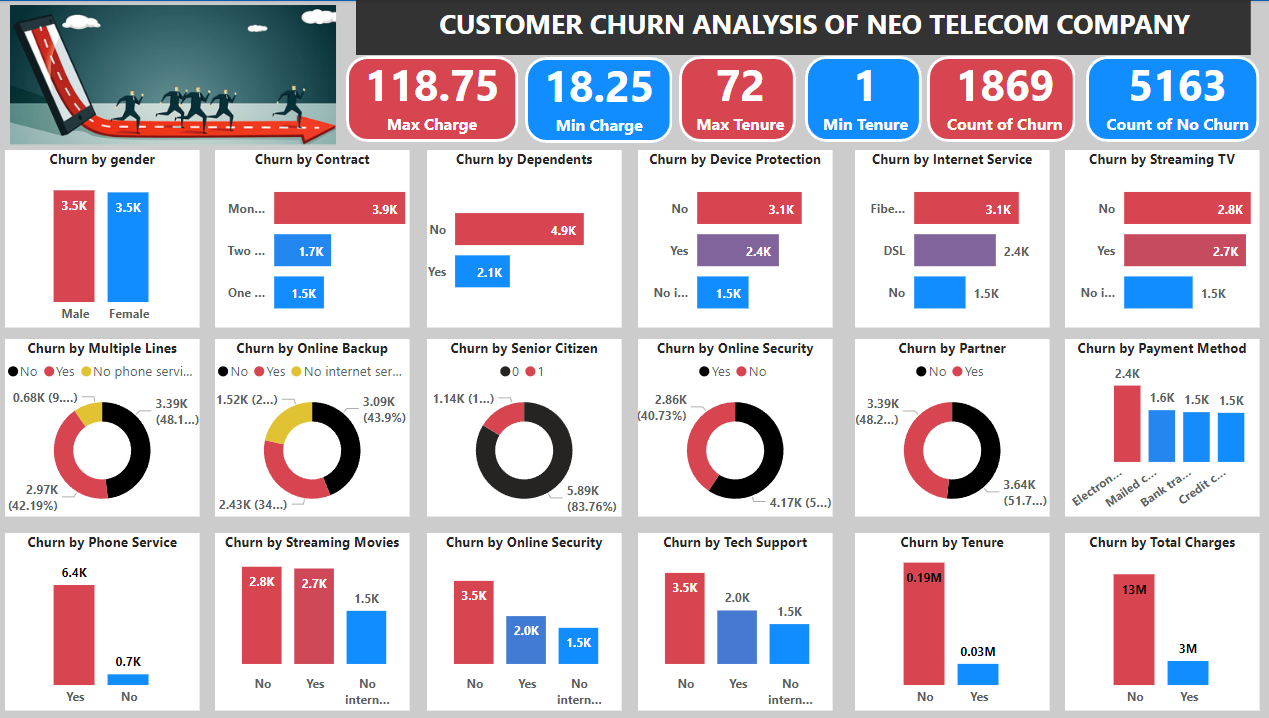

This screenshot's page, from the dashboard's own definition file:
{"tool":"powerbi","page":{"name":"Page 1","canvas":[1280,720],"ordinal":0},"visuals":[{"type":"shape","box":[0,0,1280,719.8],"z":0},{"type":"shape","box":[353.9,55.8,171.8,85.7],"z":1000},{"type":"columnChart","title":"Churn by gender","fields":{"Category":["customer_churn.gender"],"Y":["CountNonNull(customer_churn.Churn)"]},"box":[14,149.5,193.8,176.6],"z":2000},{"type":"card","fields":{"Values":["Measure Table.Max Charge"]},"box":[364.1,46.9,151.3,94.7],"z":3000},{"type":"barChart","title":"Churn by Contract","fields":{"Category":["customer_churn.Contract"],"Y":["CountNonNull(customer_churn.Churn)"]},"box":[223.3,149.5,193.8,176.6],"z":4000},{"type":"shape","box":[532.8,56.8,147.2,85.7],"z":5000},{"type":"clusteredBarChart","title":"Churn by Dependents","fields":{"Category":["customer_churn.Dependents"],"Y":["CountNonNull(customer_churn.Churn)"]},"box":[434.8,149.5,193.8,176.6],"z":6000},{"type":"card","fields":{"Values":["Measure Table.Min Charge"]},"box":[543.1,47.9,125.8,94.7],"z":7000},{"type":"barChart","title":"Churn by Device Protection","fields":{"Category":["customer_churn.DeviceProtection"],"Y":["CountNonNull(customer_churn.Churn)"]},"box":[645.2,149.5,193.8,176.6],"z":8000},{"type":"shape","box":[686.2,55.8,116.6,85.7],"z":9000},{"type":"shape","box":[363.9,0,892.2,54.8],"z":10000},{"type":"card","fields":{"Values":["Measure Table.Max Tenure"]},"box":[693.4,46.9,106.3,94.7],"z":11000},{"type":"barChart","title":"Churn by Internet Service","fields":{"Y":["CountNonNull(customer_churn.Churn)"],"Category":["customer_churn.InternetService"]},"box":[860.8,149.5,193.8,176.6],"z":12000},{"type":"shape","box":[811,55.9,116.6,85.7],"z":13000},{"type":"textbox","box":[385.8,0,870.3,54.8],"z":14000},{"type":"card","fields":{"Values":["Measure Table.Min Tenure"]},"box":[818.1,46.9,106.3,94.7],"z":15000},{"type":"donutChart","title":"Churn by Multiple Lines","fields":{"Category":["customer_churn.MultipleLines"],"Y":["CountNonNull(customer_churn.Churn)"]},"box":[14,338.1,193.8,176.6],"z":16000},{"type":"shape","box":[932.6,55.8,148.3,85.7],"z":17000},{"type":"donutChart","title":"Churn by Online Backup","fields":{"Category":["customer_churn.OnlineBackup"],"Y":["CountNonNull(customer_churn.Churn)"]},"box":[223.3,338.1,193.8,176.6],"z":18000},{"type":"card","fields":{"Values":["Measure Table.Count of Churn"]},"box":[939.8,46.9,141.1,94.7],"z":19000},{"type":"clusteredColumnChart","title":"Churn by Online Security","fields":{"Category":["customer_churn.OnlineSecurity"],"Y":["CountNonNull(customer_churn.Churn)"]},"box":[434.8,531,193.8,176.6],"z":20000},{"type":"shape","box":[1091.1,55.8,172.8,85.7],"z":21000},{"type":"donutChart","title":"Churn by Online Security","fields":{"Category":["customer_churn.PaperlessBilling"],"Y":["CountNonNull(customer_churn.Churn)"]},"box":[645.2,338.1,193.8,176.6],"z":22000},{"type":"card","fields":{"Values":["Measure Table.Count of No Churn"]},"box":[1101.3,46.9,162.6,94.7],"z":23000},{"type":"donutChart","title":"Churn by Partner","fields":{"Category":["customer_churn.Partner"],"Y":["CountNonNull(customer_churn.Churn)"]},"box":[860.8,338.1,193.8,176.6],"z":24000},{"type":"columnChart","title":"Churn by Payment Method","fields":{"Y":["CountNonNull(customer_churn.Churn)"],"Category":["customer_churn.PaymentMethod"]},"box":[1070.2,338.1,193.8,176.6],"z":25000},{"type":"columnChart","title":"Churn by Phone Service","fields":{"Y":["CountNonNull(customer_churn.Churn)"],"Category":["customer_churn.PhoneService"]},"box":[14,531,193.8,176.6],"z":26000},{"type":"donutChart","title":"Churn by Senior Citizen","fields":{"Category":["customer_churn.SeniorCitizen"],"Y":["CountNonNull(customer_churn.Churn)"]},"box":[434.8,338.1,193.8,176.6],"z":27000},{"type":"columnChart","title":"Churn by Streaming Movies","fields":{"Y":["CountNonNull(customer_churn.Churn)"],"Category":["customer_churn.StreamingMovies"]},"box":[223.3,531,193.8,176.6],"z":28000},{"type":"barChart","title":"Churn by Streaming TV","fields":{"Category":["customer_churn.StreamingTV"],"Y":["CountNonNull(customer_churn.Churn)"]},"box":[1070.2,149.5,193.8,176.6],"z":29000},{"type":"columnChart","title":"Churn by Tech Support","fields":{"Y":["CountNonNull(customer_churn.Churn)"],"Category":["customer_churn.TechSupport"]},"box":[645.2,531,193.8,176.6],"z":30000},{"type":"columnChart","title":"Churn by Tenure","fields":{"Category":["customer_churn.Churn"],"Y":["Sum(customer_churn.tenure)"]},"box":[860.8,531,193.8,176.6],"z":31000},{"type":"columnChart","title":"Churn by Total Charges","fields":{"Category":["customer_churn.Churn"],"Y":["Sum(customer_churn.TotalCharges)"]},"box":[1070.2,531,193.8,176.6],"z":32000},{"type":"image","box":[14,0,335,149.5],"z":33000}]}

Visuals, with their boxes in screenshot pixels (x1, y1, x2, y2), scaled from the page's 1280x720 canvas onto the 1269x718 screenshot:
shape: x1=0 y1=0 x2=1268 y2=717
shape: x1=351 y1=56 x2=521 y2=141
"Churn by gender" columnChart: x1=14 y1=149 x2=206 y2=325
card - Measure Table.Max Charge: x1=361 y1=47 x2=511 y2=141
"Churn by Contract" barChart: x1=221 y1=149 x2=414 y2=325
shape: x1=528 y1=57 x2=674 y2=142
"Churn by Dependents" clusteredBarChart: x1=431 y1=149 x2=623 y2=325
card - Measure Table.Min Charge: x1=538 y1=48 x2=663 y2=142
"Churn by Device Protection" barChart: x1=640 y1=149 x2=832 y2=325
shape: x1=680 y1=56 x2=796 y2=141
shape: x1=361 y1=0 x2=1245 y2=55
card - Measure Table.Max Tenure: x1=687 y1=47 x2=793 y2=141
"Churn by Internet Service" barChart: x1=853 y1=149 x2=1046 y2=325
shape: x1=804 y1=56 x2=920 y2=141
textbox: x1=382 y1=0 x2=1245 y2=55
card - Measure Table.Min Tenure: x1=811 y1=47 x2=916 y2=141
"Churn by Multiple Lines" donutChart: x1=14 y1=337 x2=206 y2=513
shape: x1=925 y1=56 x2=1072 y2=141
"Churn by Online Backup" donutChart: x1=221 y1=337 x2=414 y2=513
card - Measure Table.Count of Churn: x1=932 y1=47 x2=1072 y2=141
"Churn by Online Security" clusteredColumnChart: x1=431 y1=530 x2=623 y2=706
shape: x1=1082 y1=56 x2=1253 y2=141
"Churn by Online Security" donutChart: x1=640 y1=337 x2=832 y2=513
card - Measure Table.Count of No Churn: x1=1092 y1=47 x2=1253 y2=141
"Churn by Partner" donutChart: x1=853 y1=337 x2=1046 y2=513
"Churn by Payment Method" columnChart: x1=1061 y1=337 x2=1253 y2=513
"Churn by Phone Service" columnChart: x1=14 y1=530 x2=206 y2=706
"Churn by Senior Citizen" donutChart: x1=431 y1=337 x2=623 y2=513
"Churn by Streaming Movies" columnChart: x1=221 y1=530 x2=414 y2=706
"Churn by Streaming TV" barChart: x1=1061 y1=149 x2=1253 y2=325
"Churn by Tech Support" columnChart: x1=640 y1=530 x2=832 y2=706
"Churn by Tenure" columnChart: x1=853 y1=530 x2=1046 y2=706
"Churn by Total Charges" columnChart: x1=1061 y1=530 x2=1253 y2=706
image: x1=14 y1=0 x2=346 y2=149
